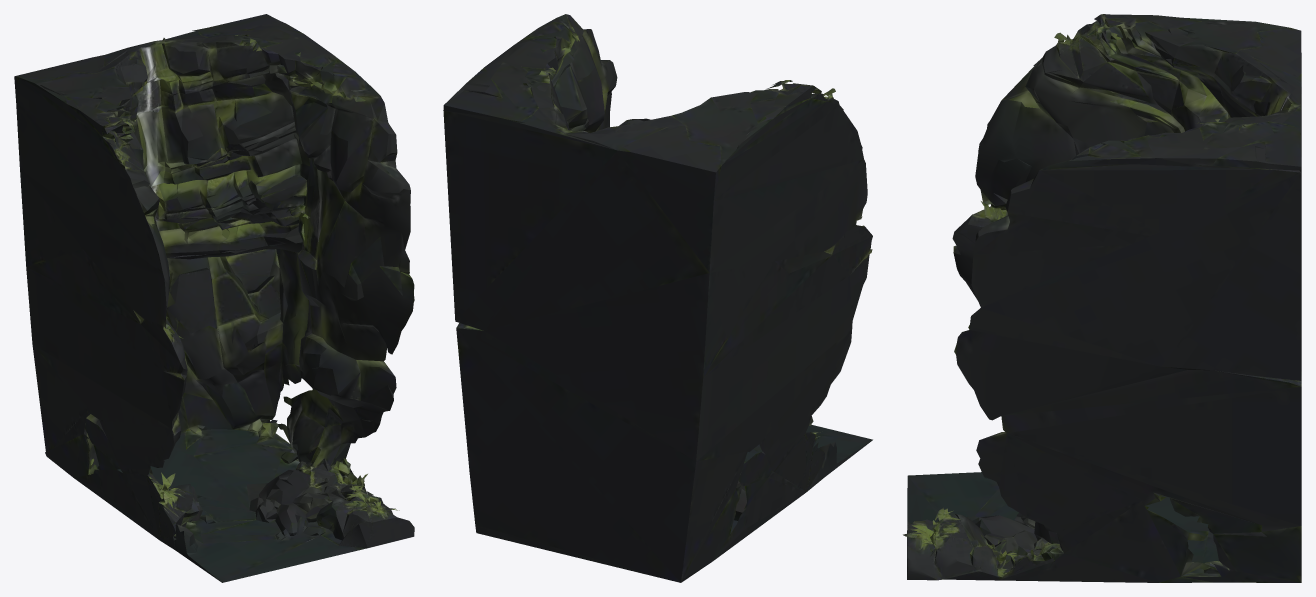
File: scene_waterfall_cliff.glb
3 views of the same model, side by side, from view 1: azimuth 30°, elevation 25°; view 2: azimuth 150°, elevation 25°; view 3: azimuth 270°, elevation 25° (orthographic). The views are drawn at different scales.
Bounding box in the file's own units: 1.25 × 1.9 × 1.53.
Materials: 1 (1 with a texture image).
